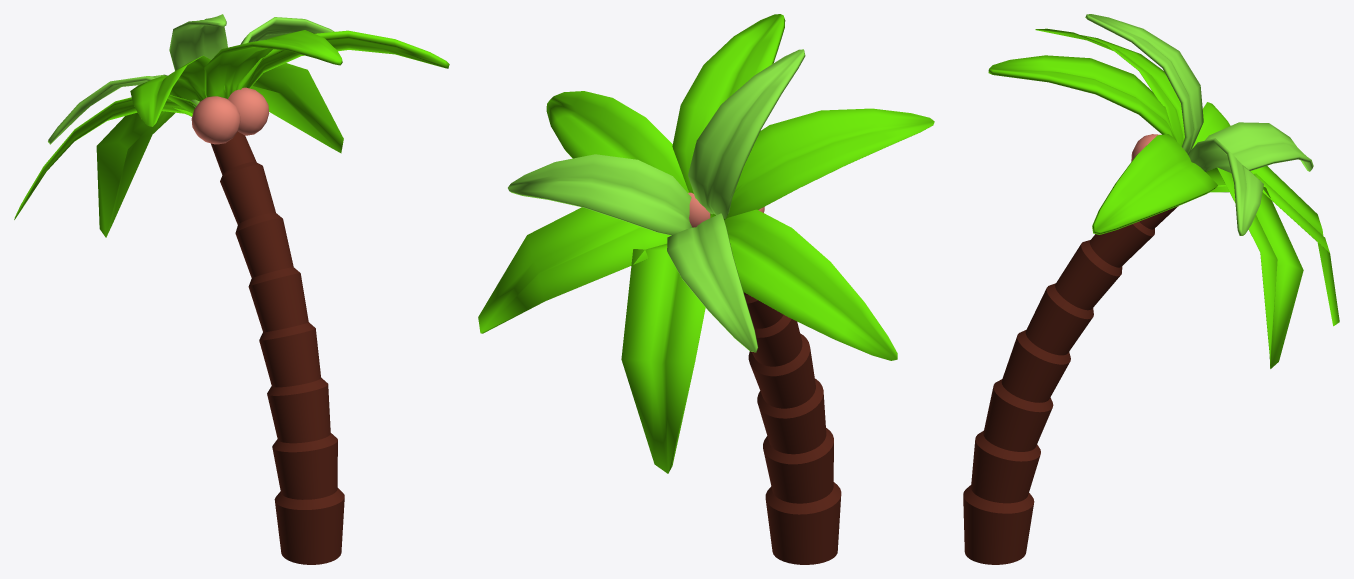
Rendered from Palmtree_2.fbx.
3 renders of one model, left to right at view 1: azimuth 30°, elevation 25°; view 2: azimuth 150°, elevation 25°; view 3: azimuth 270°, elevation 25°, orthographic. The views are drawn at different scales.
Visible parts, largest first — view 1: Plane.004, Circle.001; view 2: Plane.004, Circle.001; view 3: Plane.004, Circle.001.
Part boxes in pixels (x1,y1,x2,y2): Plane.004: (14,14,449,237); Circle.001: (211,131,344,564); Plane.004: (478,14,934,473); Circle.001: (743,292,841,564); Plane.004: (988,14,1339,368); Circle.001: (963,206,1178,564).
Size of the model in its own units: 105 by 135 by 89.11.
